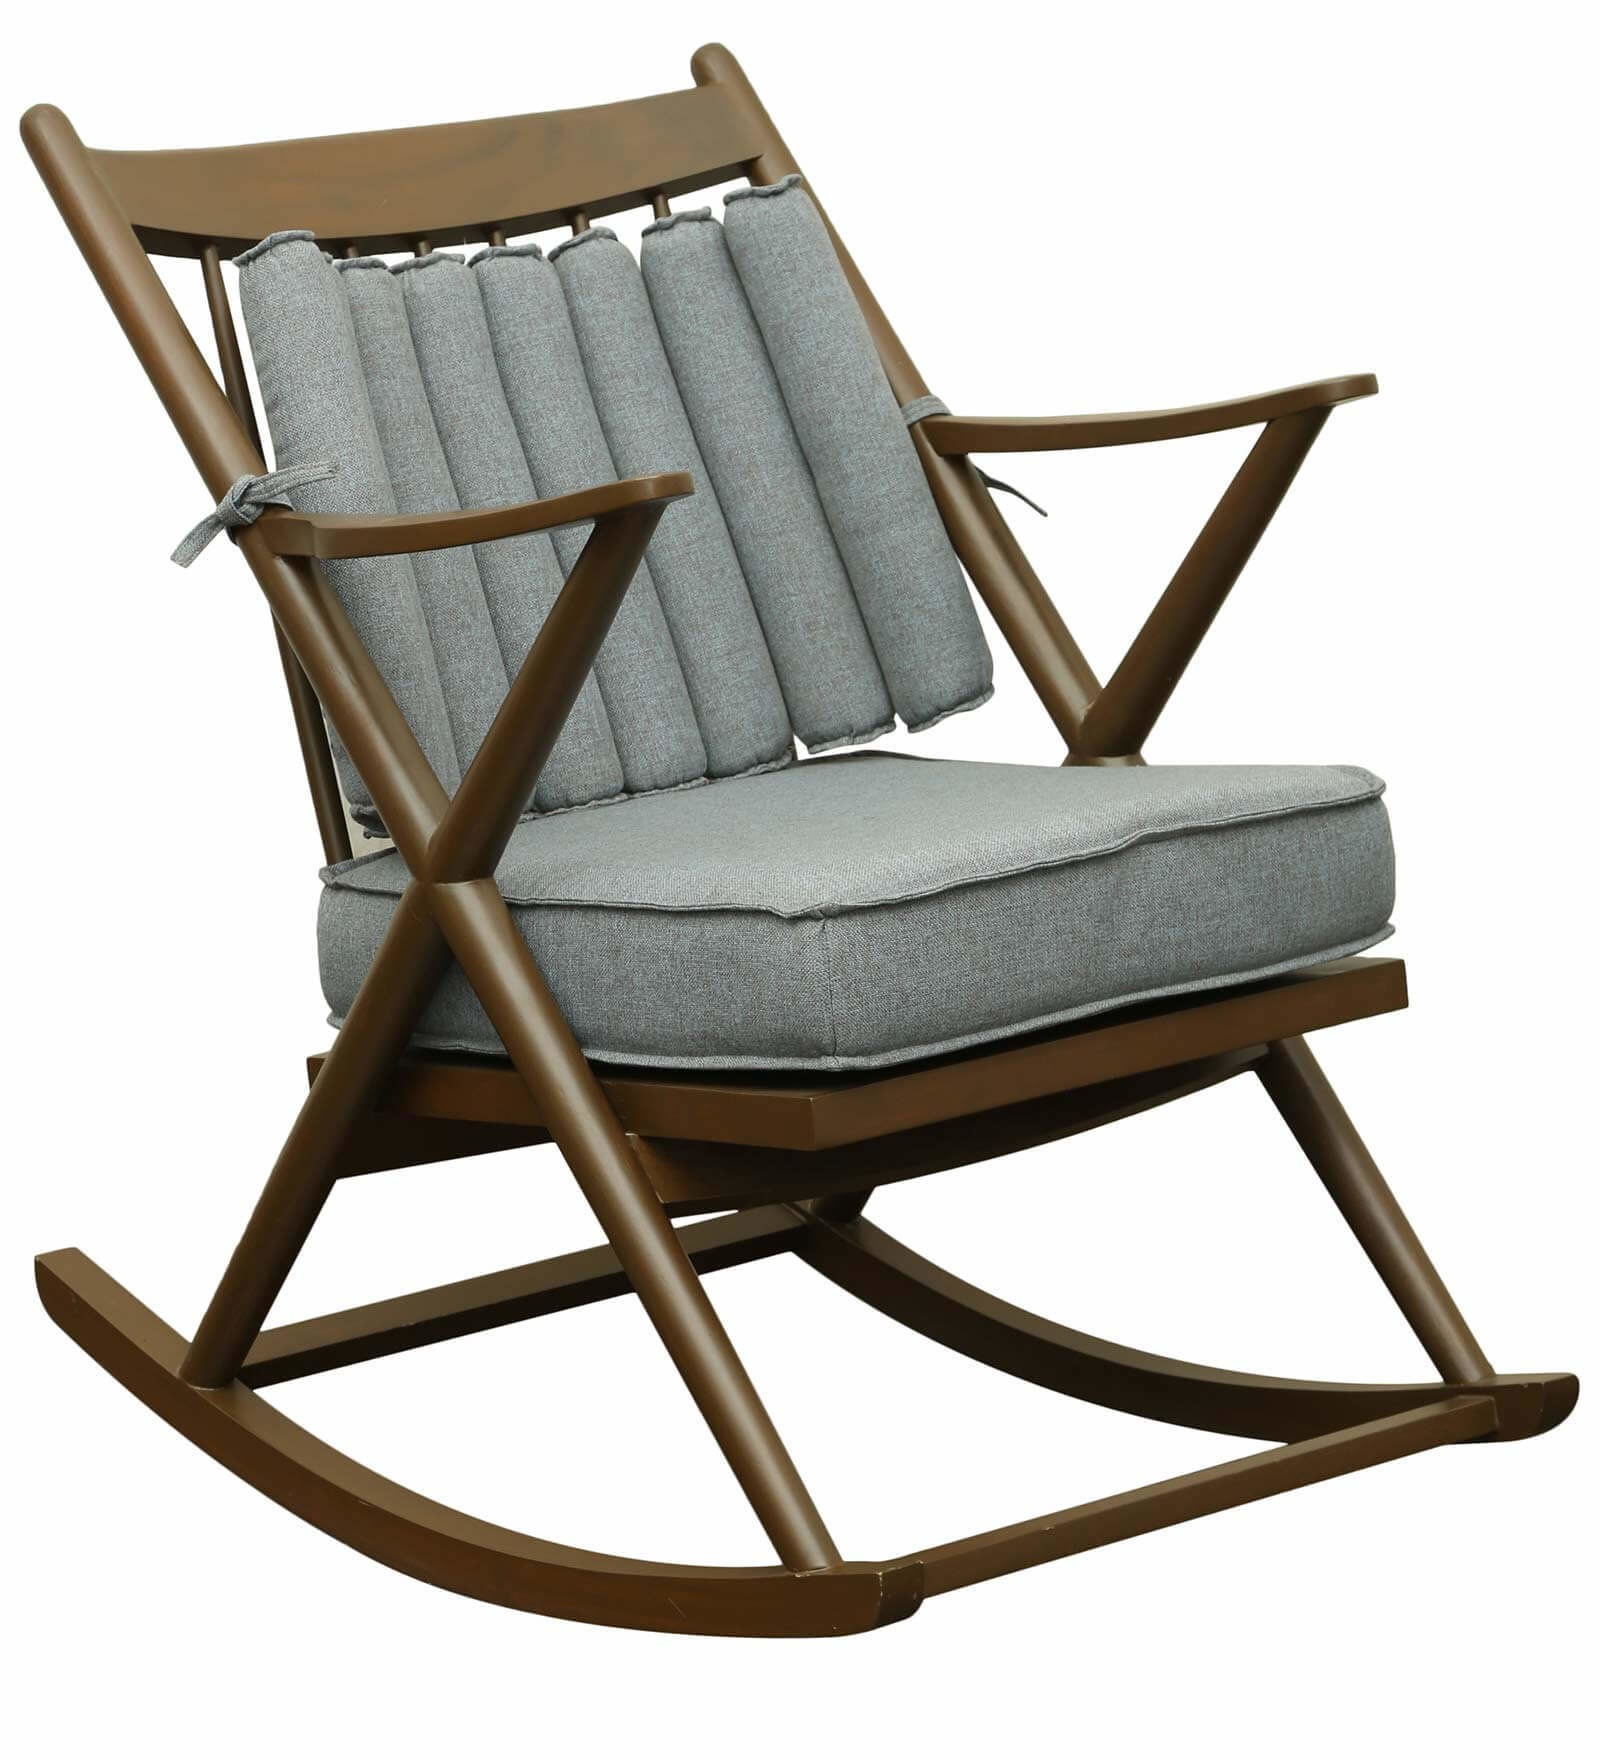Standard Rocking Chair in Grey & Brown Colour Combo by INDOORS: (11, 44, 1598, 1689)
